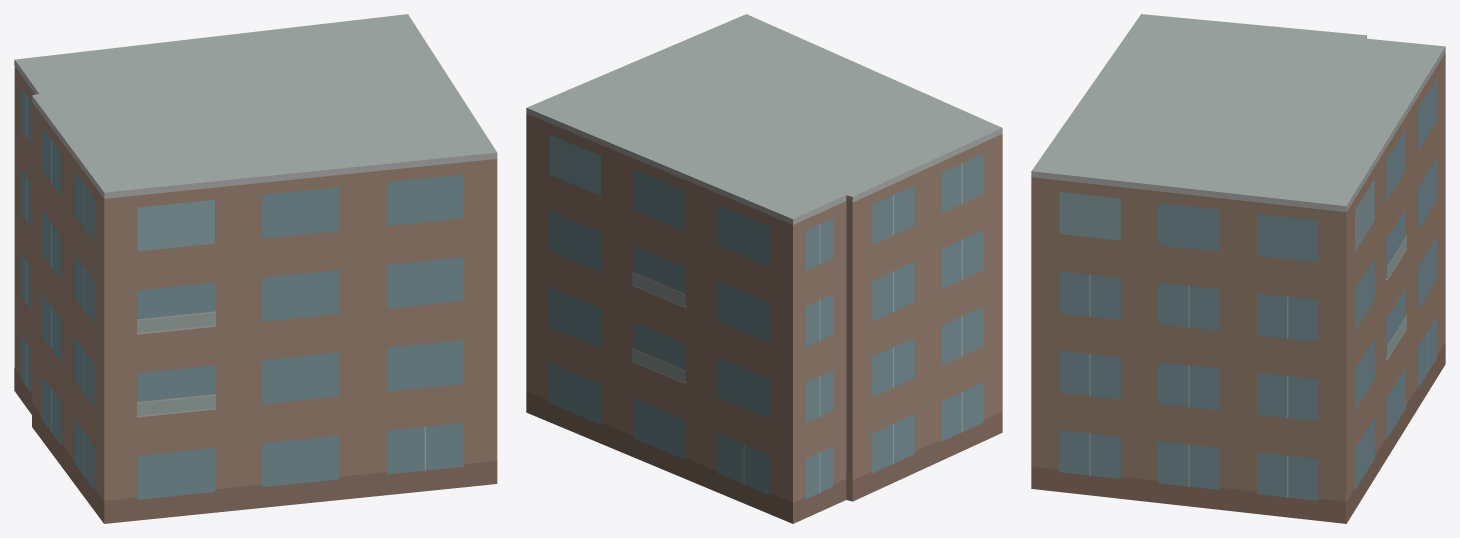
The model's file is survey-upis-32904563.glb.
The picture shows the model from 3 angles, left to right: view 1: azimuth 30°, elevation 25°; view 2: azimuth 150°, elevation 25°; view 3: azimuth 270°, elevation 25°; orthographic projection. The views are drawn at different scales.
Parts seen in each view (by area): view 1: survey-upis-32904563.tmp; view 2: survey-upis-32904563.tmp; view 3: survey-upis-32904563.tmp.
Boxes of the visible parts, <box> form: survey-upis-32904563.tmp: <box>14,14,497,523</box>; survey-upis-32904563.tmp: <box>526,14,1002,523</box>; survey-upis-32904563.tmp: <box>1031,14,1445,523</box>.
Size of the model in its own units: 16.75 by 12.9 by 15.26.
